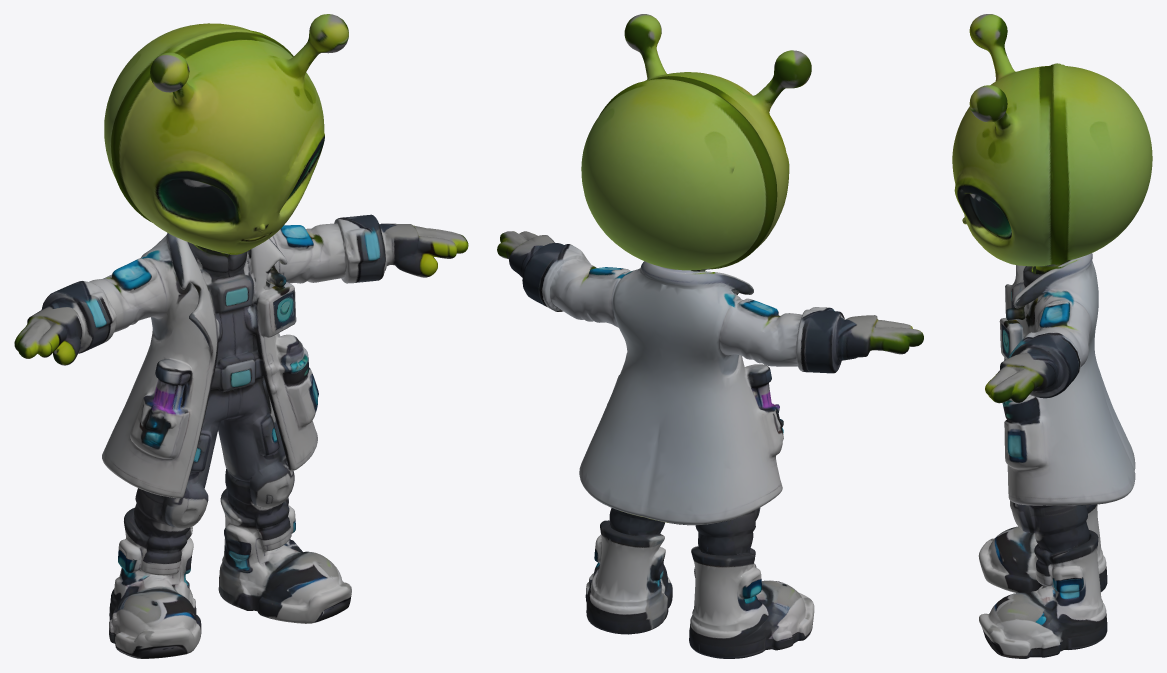
The model's file is tripo_convert_2f46e4ab-61ea-437a-8847-e982dd360bd3.fbx.
3 views of the same model, side by side, from view 1: azimuth 30°, elevation 25°; view 2: azimuth 150°, elevation 25°; view 3: azimuth 270°, elevation 25° (orthographic). The views are drawn at different scales.
Parts seen in each view (by area): view 1: tripo_node_2f46e4ab; view 2: tripo_node_2f46e4ab; view 3: tripo_node_2f46e4ab.
Boxes of the visible parts, bbox=[...] form: tripo_node_2f46e4ab: bbox=[14, 14, 468, 658]; tripo_node_2f46e4ab: bbox=[497, 14, 923, 658]; tripo_node_2f46e4ab: bbox=[952, 14, 1152, 658].
Size of the model in its own units: 77.17 by 32.33 by 100.
Materials: 1 (1 with a texture image).
